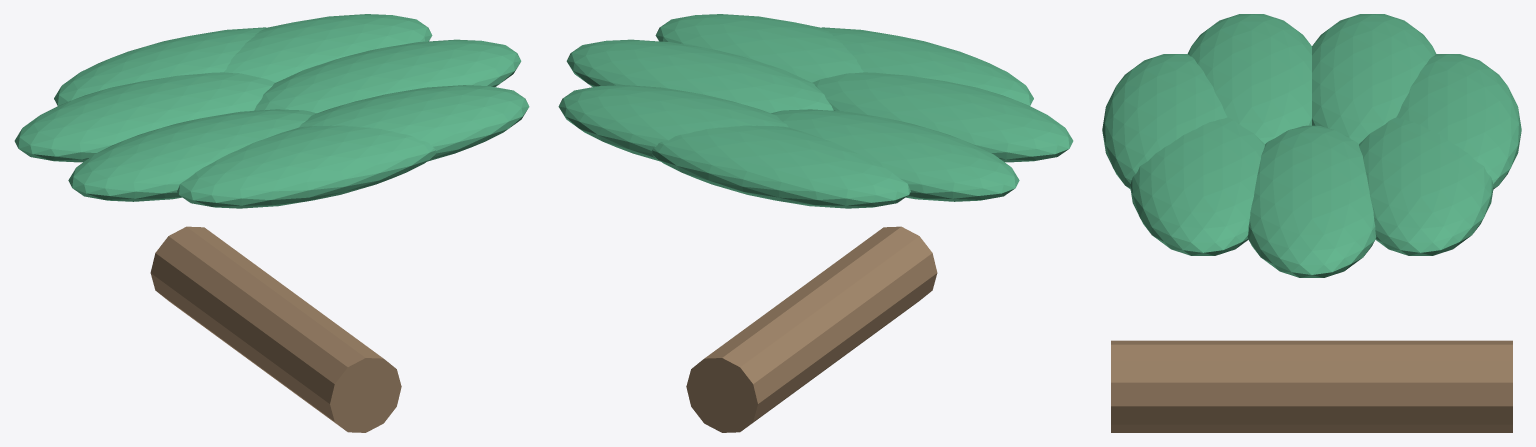
File: world_05.glb
The picture shows the model from 3 angles, left to right: view 1: azimuth 30°, elevation 25°; view 2: azimuth 150°, elevation 25°; view 3: azimuth 270°, elevation 25°; orthographic projection. The views are drawn at different scales.
Parts seen in each view (by area): view 1: trunk, frond_2, frond_4, frond, frond_3, frond_1, frond_6, frond_5; view 2: trunk, frond_5, frond_3, frond, frond_4, frond_6, frond_1, frond_2; view 3: trunk, frond, frond_1, frond_6, frond_3, frond_4, frond_2, frond_5.
Part boxes in pixels (<box>): trunk: <box>150,226,401,432</box>; frond_2: <box>177,125,435,208</box>; frond_4: <box>14,72,275,162</box>; frond: <box>254,39,521,113</box>; frond_3: <box>68,109,316,201</box>; frond_1: <box>299,85,529,161</box>; frond_6: <box>224,14,432,82</box>; frond_5: <box>54,27,266,105</box>; trunk: <box>686,226,937,432</box>; frond_5: <box>652,125,910,208</box>; frond_3: <box>812,72,1073,162</box>; frond: <box>566,39,833,113</box>; frond_4: <box>771,109,1019,201</box>; frond_6: <box>558,85,788,161</box>; frond_1: <box>655,14,863,82</box>; frond_2: <box>821,27,1033,105</box>; trunk: <box>1111,340,1512,432</box>; frond: <box>1247,125,1376,277</box>; frond_1: <box>1130,117,1264,255</box>; frond_6: <box>1359,117,1493,255</box>; frond_3: <box>1187,14,1311,143</box>; frond_4: <box>1312,14,1436,143</box>; frond_2: <box>1102,54,1227,189</box>; frond_5: <box>1396,54,1521,189</box>.
Size of the model in its own units: 1.98 by 1.11 by 1.36.
